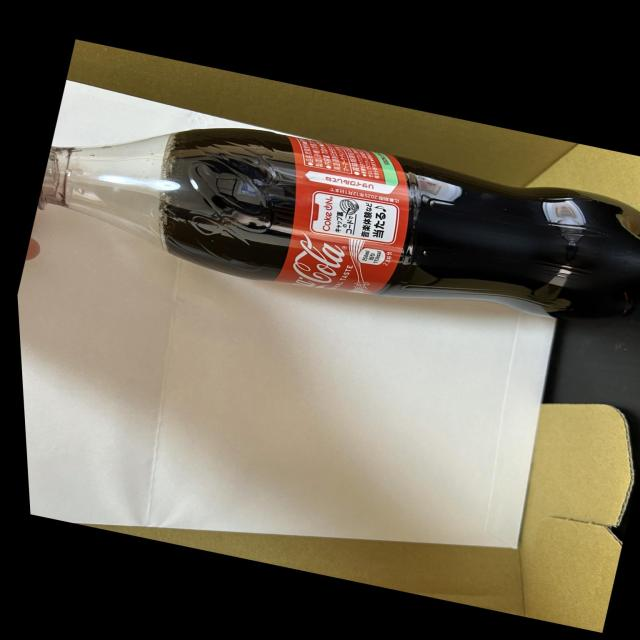high: (39, 128, 640, 318)
